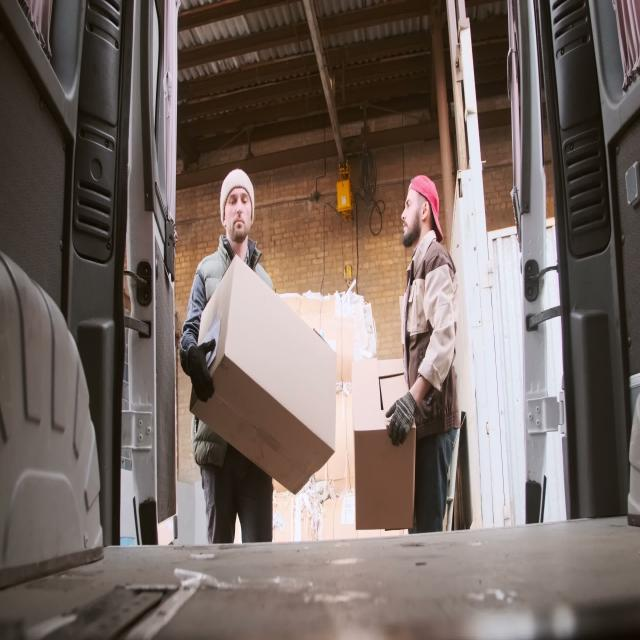counting-the-number-of-boxes: (189, 254, 337, 495), (352, 356, 416, 531)
